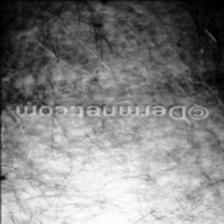Unclassified: (145, 158, 223, 204), (92, 56, 138, 90)
